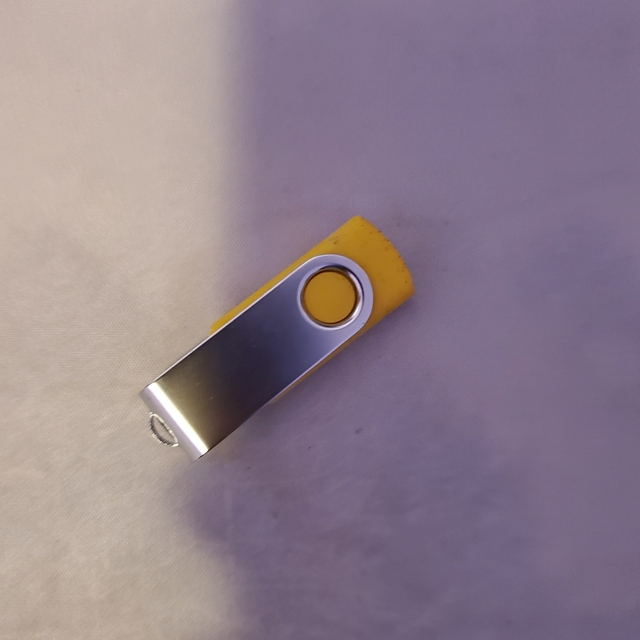usb_drive: (137, 214, 424, 467)
